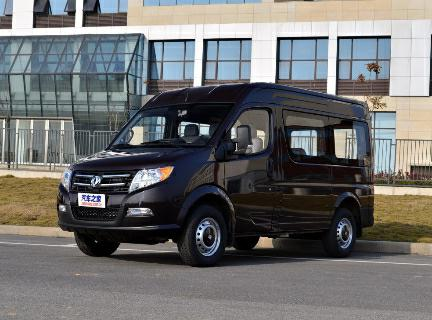东风-御风: (56, 80, 382, 265)
